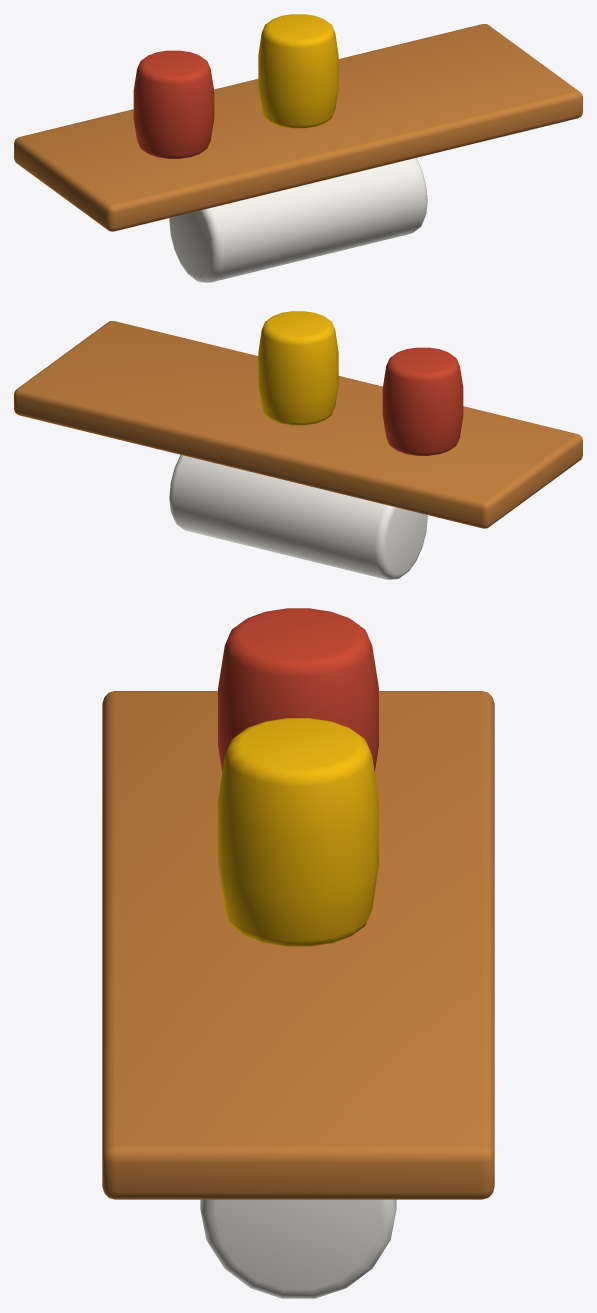
File: shelf_papertowel_decorated.gltf
3 renders of one model, top to bottom at view 1: azimuth 30°, elevation 25°; view 2: azimuth 150°, elevation 25°; view 3: azimuth 270°, elevation 25°, orthographic. The views are drawn at different scales.
Visible parts, largest first — view 1: ShelfPlank; view 2: ShelfPlank; view 3: ShelfPlank.
Part boxes in pixels (<box>): ShelfPlank: <box>14,14,582,282</box>; ShelfPlank: <box>14,311,582,579</box>; ShelfPlank: <box>102,608,494,1298</box>.
Size of the model in its own units: 0.84 by 0.3839 by 0.3.
